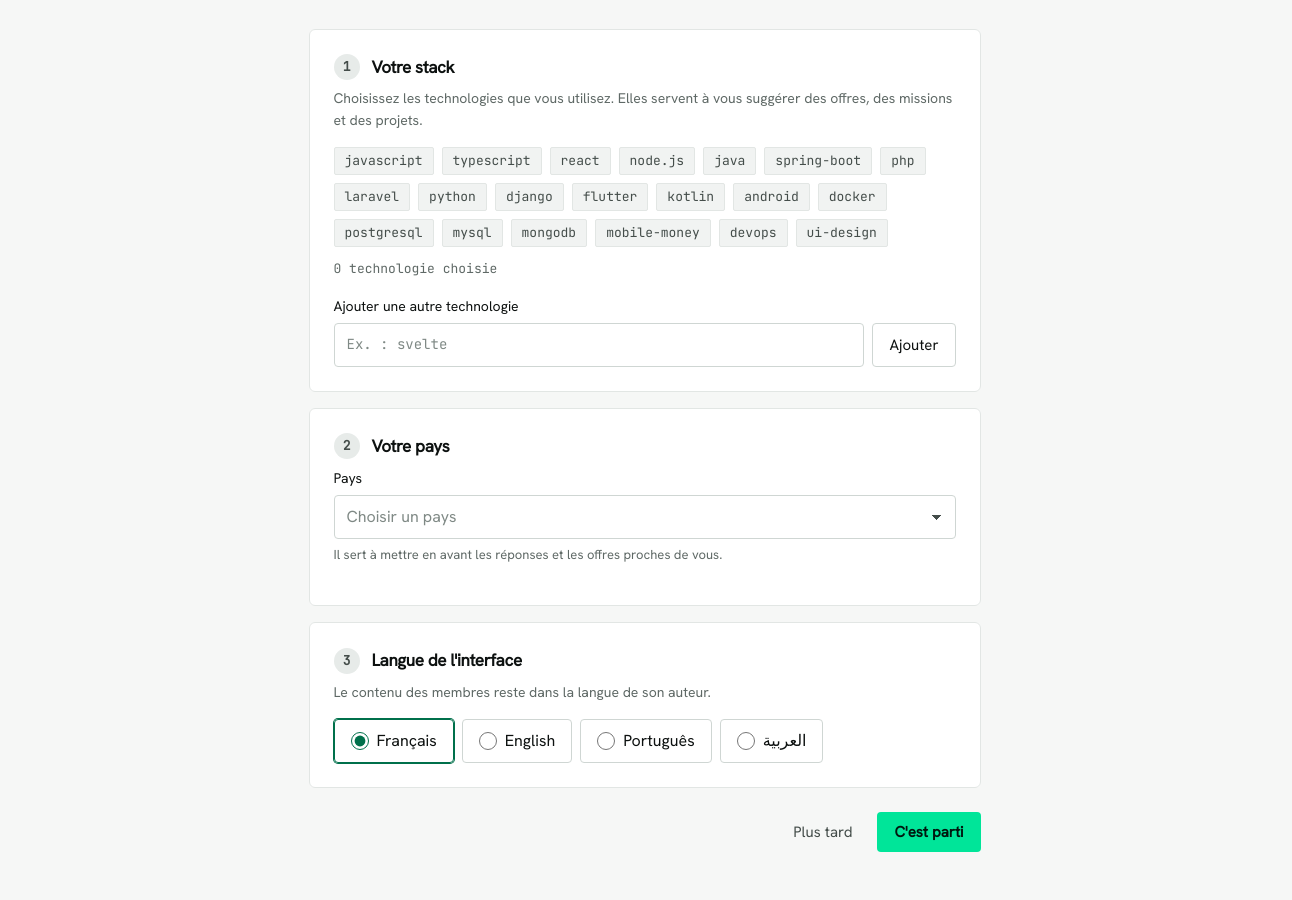
Test case: parcours d'accueil (AUTH-5) › demande un pays avant de terminer, et « Plus tard » laisse passer
This screenshot has width=1292, height=900.
(page scrolled)
Click the button "C'est parti" at (929, 832), box [878, 812, 980, 852]
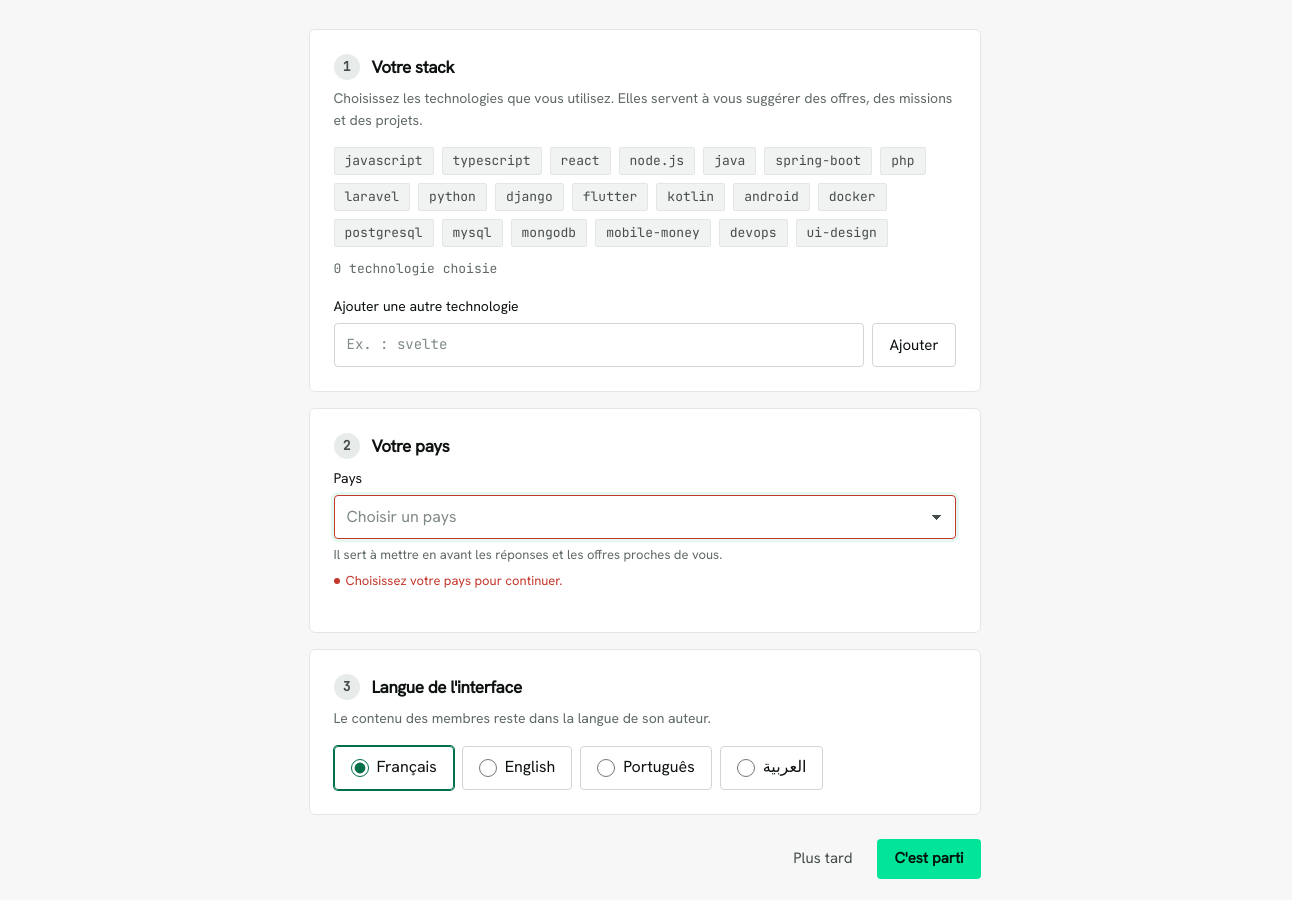
Now the text "Choisissez votre pays pour continuer." is shown, box [346, 572, 562, 589]
Click the button "Plus tard" at (823, 859), box [776, 839, 870, 879]
(page scrolled)
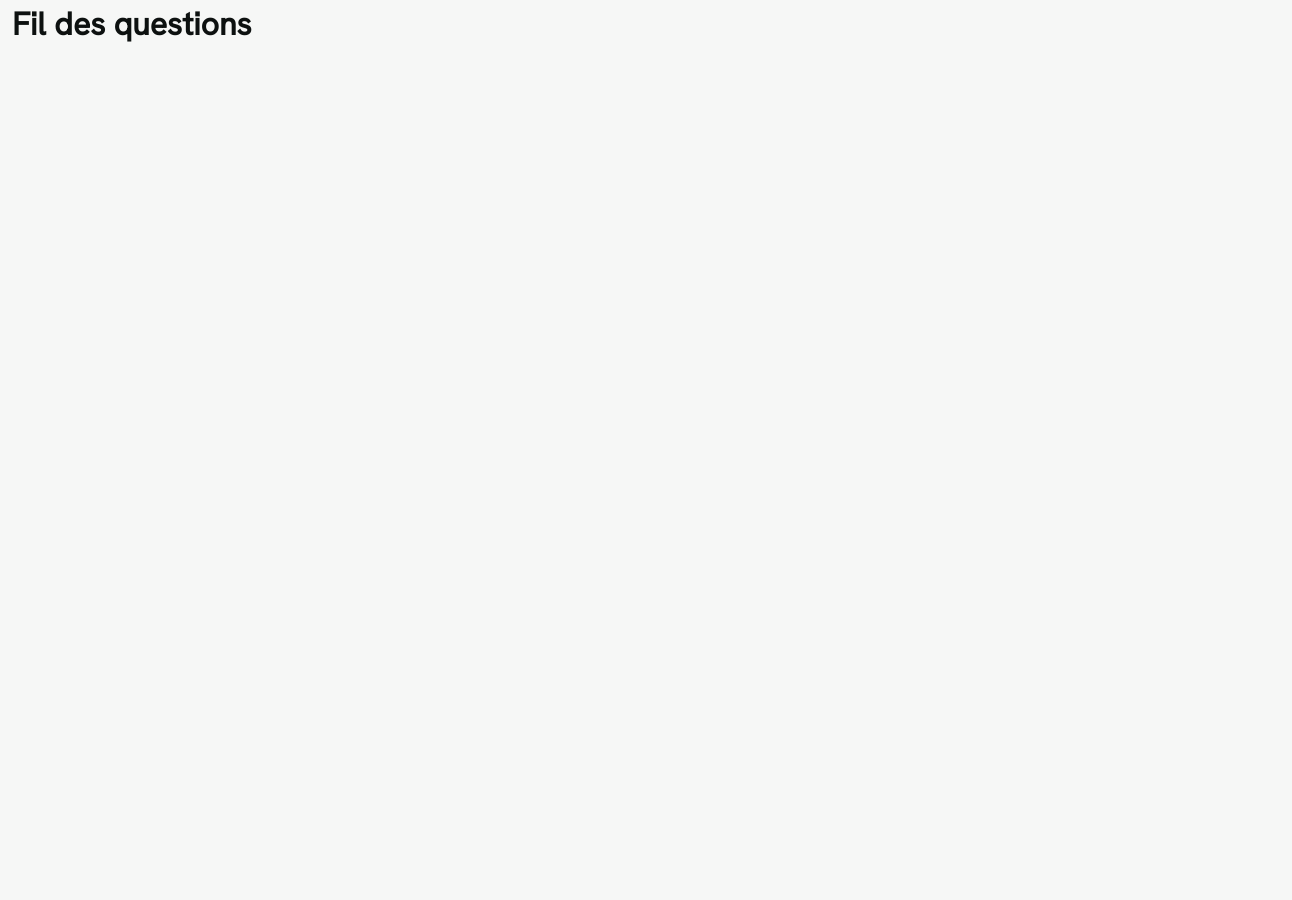
Now the heading "Fil des questions" is shown, box [12, 3, 252, 45]
